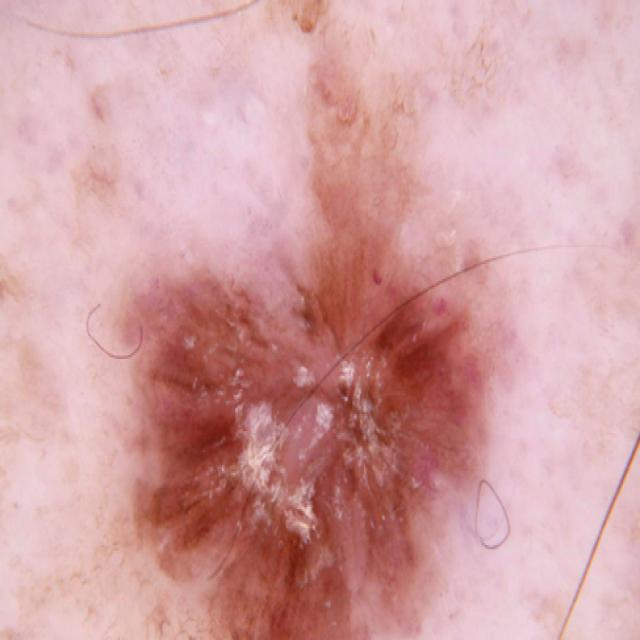Carcinoma: (67, 199, 553, 640)
